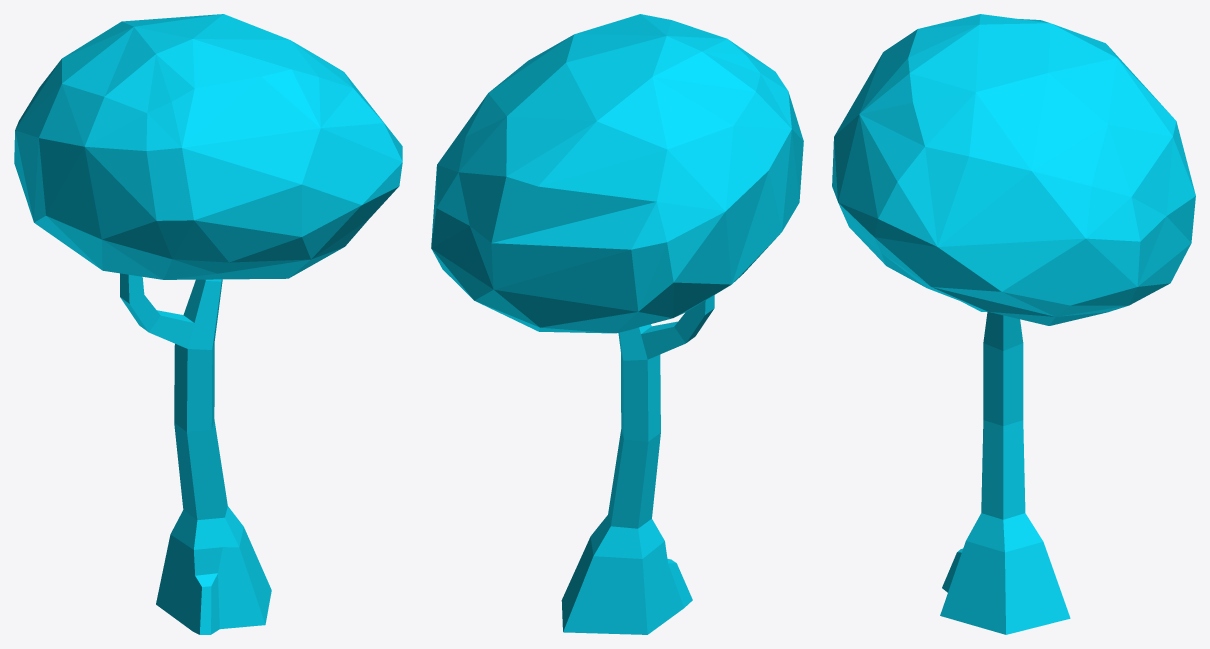
File: forestpack_tree_1_leaf_1_meshCollider.FBX
3 renders of one model, left to right at view 1: azimuth 30°, elevation 25°; view 2: azimuth 150°, elevation 25°; view 3: azimuth 270°, elevation 25°, orthographic. The views are drawn at different scales.
Visible parts, largest first — view 1: forestpack_tree_1_leaf_1_meshCollider; view 2: forestpack_tree_1_leaf_1_meshCollider; view 3: forestpack_tree_1_leaf_1_meshCollider.
Boxes of the visible parts, x1,y1,x2,y2 form: forestpack_tree_1_leaf_1_meshCollider: [14, 14, 402, 634]; forestpack_tree_1_leaf_1_meshCollider: [431, 14, 803, 634]; forestpack_tree_1_leaf_1_meshCollider: [832, 14, 1195, 634].
Size of the model in its own units: 137 by 233 by 136.
